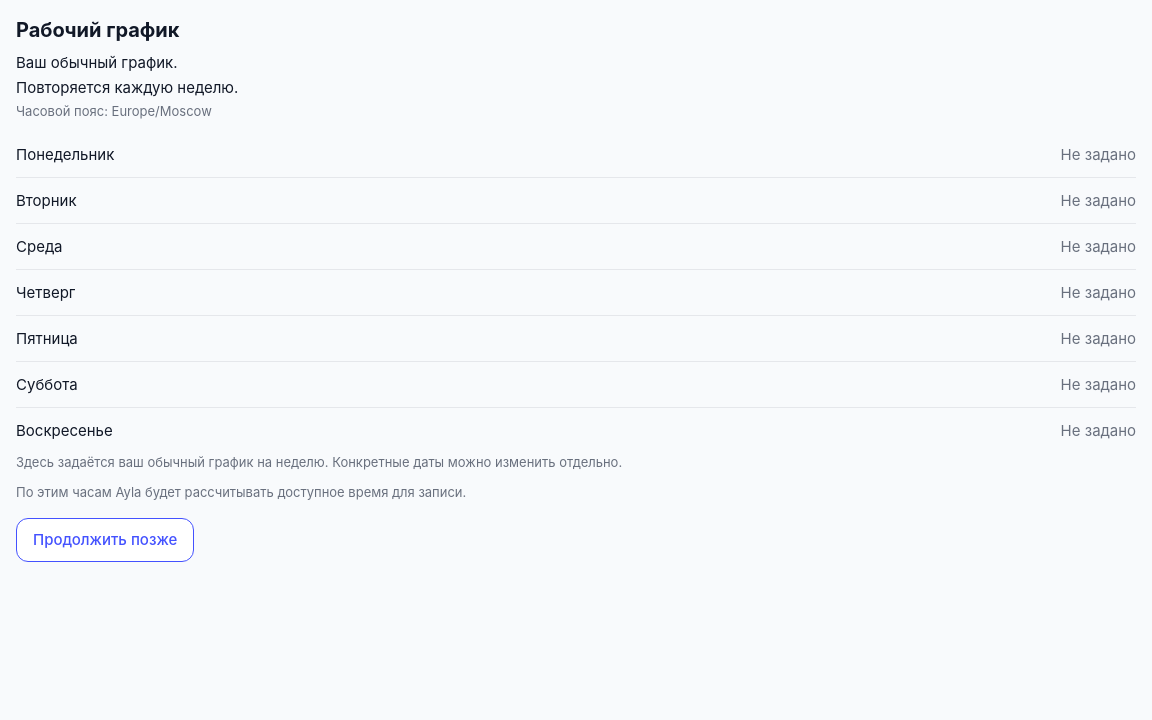
правка одного дня › на пустом шаблоне «Другие часы» пусты, сохранение названо невозможным
This screenshot has width=1152, height=720.
Expected: the heading "Рабочий график" is shown, [16,18,180,42]
Click the button with test id "day-1".
click(46, 201)  # box [16,178,1136,223]
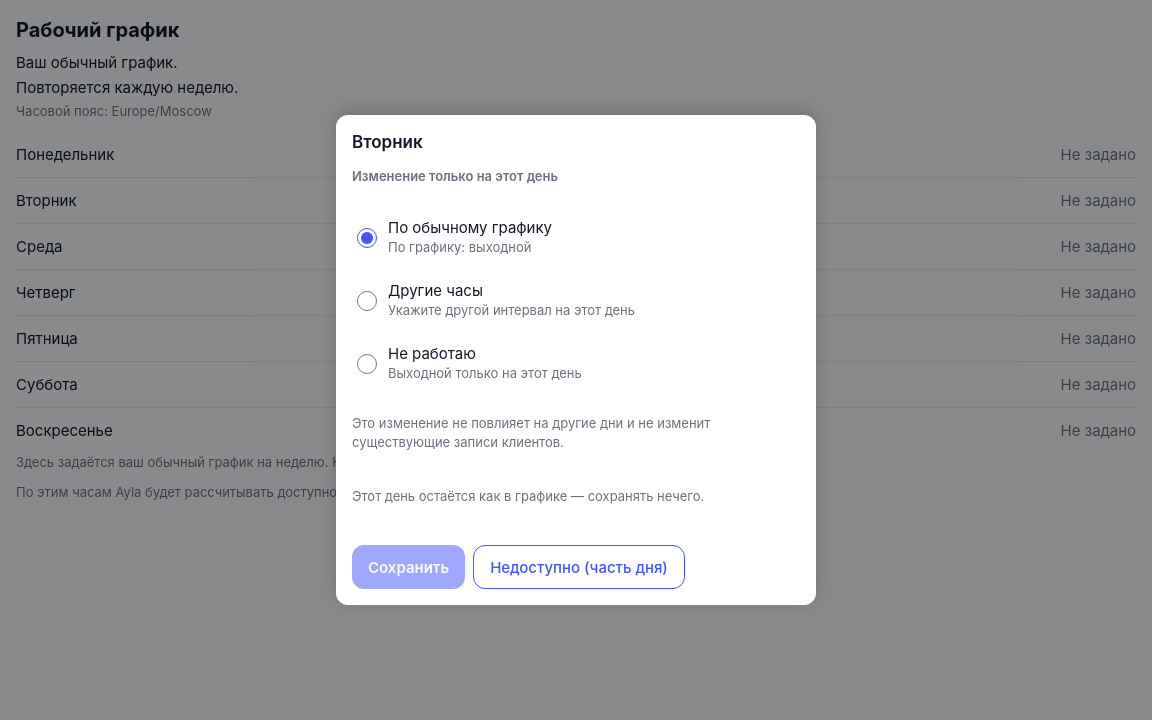
Click the radio button labelled "Другие часы Укажите другой интервал на этот день".
click(367, 301)  # box [357,291,377,311]
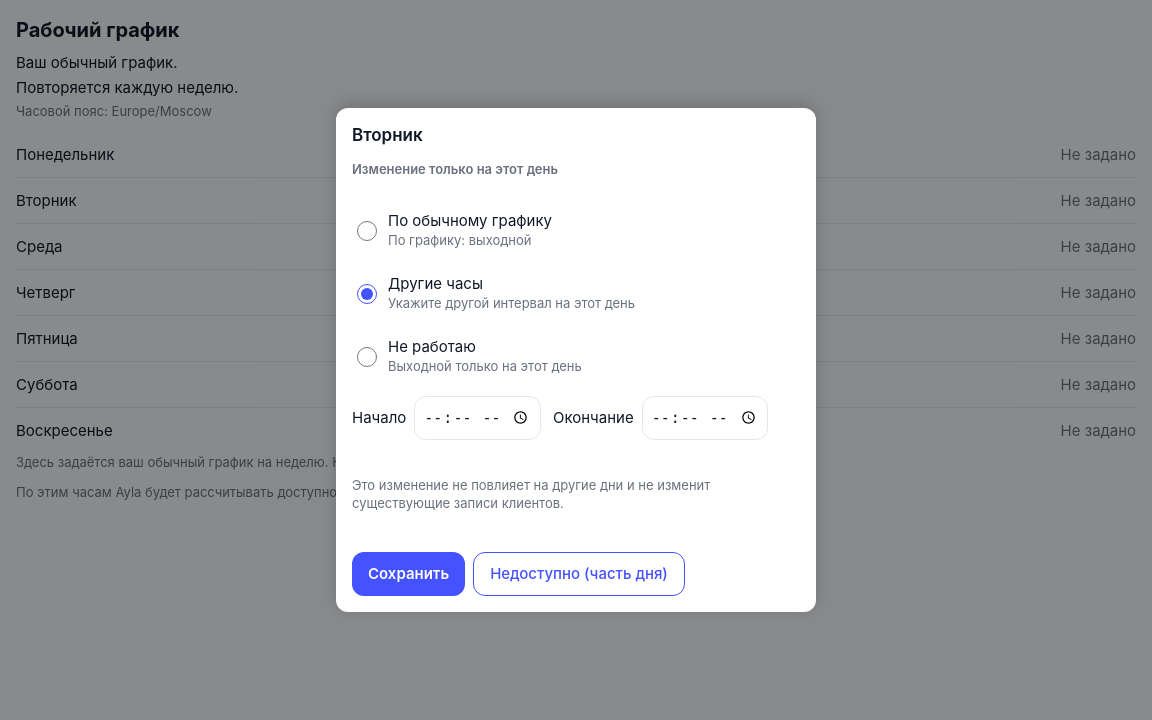
Result: the time field labelled "Начало" is empty at [414,396,541,440]
Click the button "Сохранить".
click(409, 574)  # box [352,552,465,596]
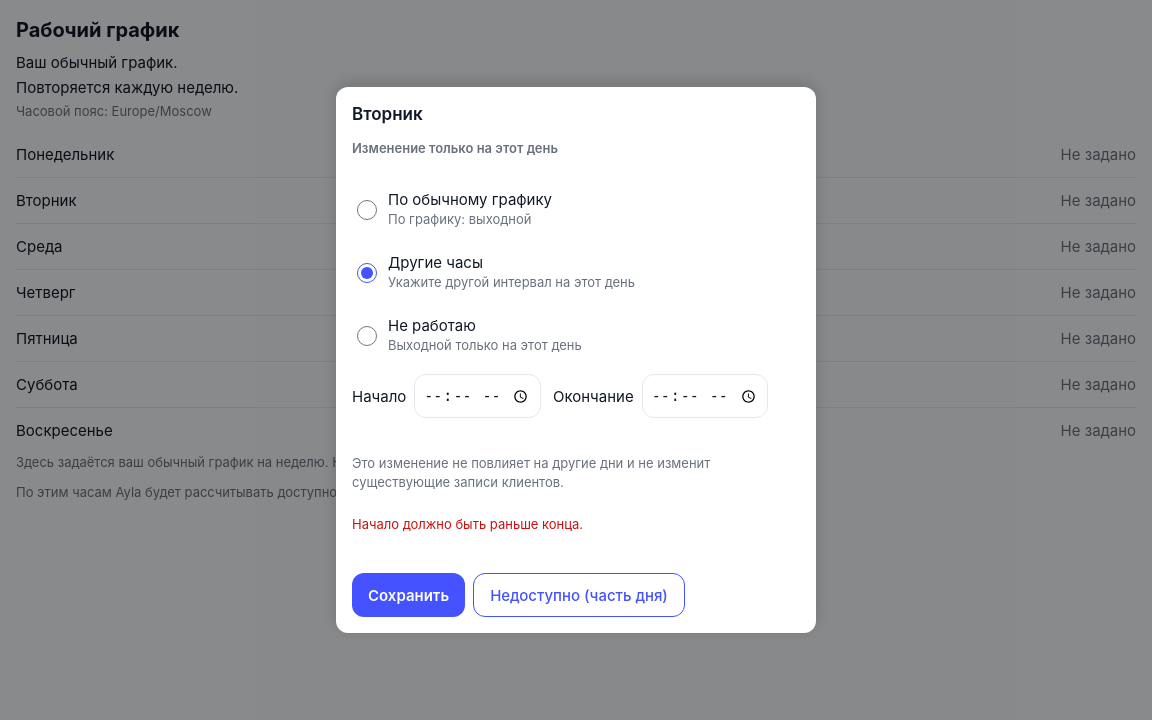
Result: the message reads "Начало должно быть раньше конца." at [352,516,583,532]
